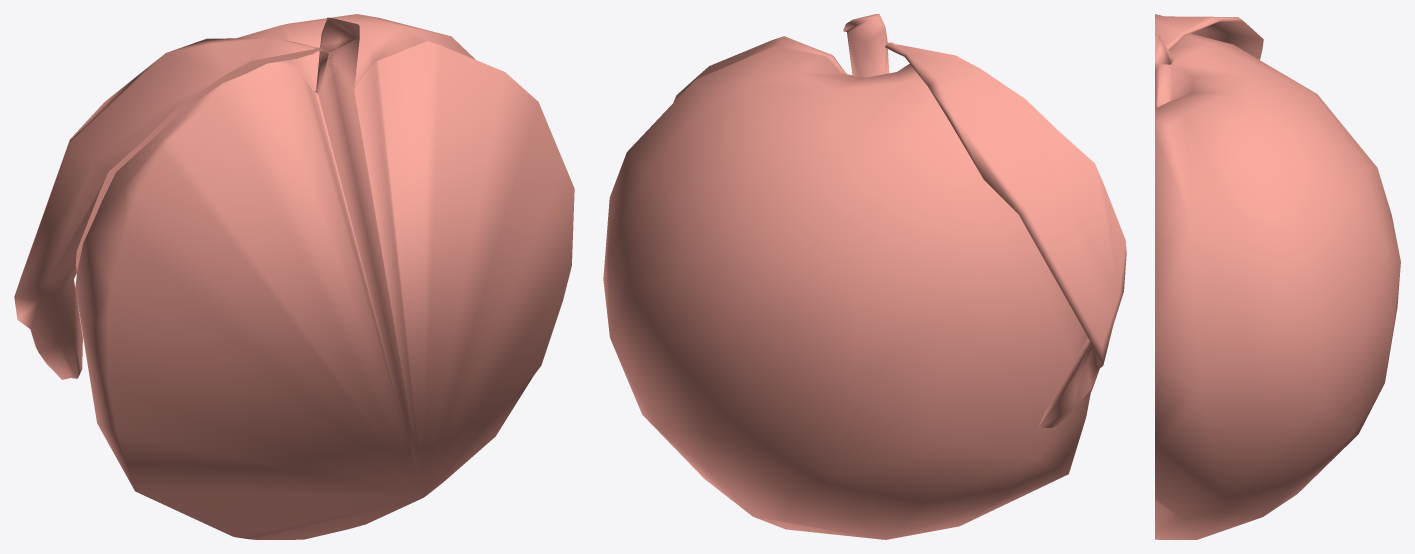
The model's file is peach_right.obj.
3 views of the same model, side by side, from view 1: azimuth 30°, elevation 25°; view 2: azimuth 150°, elevation 25°; view 3: azimuth 270°, elevation 25° (orthographic). The views are drawn at different scales.
Parts seen in each view (by area): view 1: peach; view 2: peach; view 3: peach.
Boxes of the visible parts, left/top/right/bottom form: peach: left=14, top=14, right=574, bottom=539; peach: left=603, top=14, right=1126, bottom=539; peach: left=1155, top=14, right=1400, bottom=539.
Size of the model in its own units: 0.1354 by 0.129 by 0.0605.
